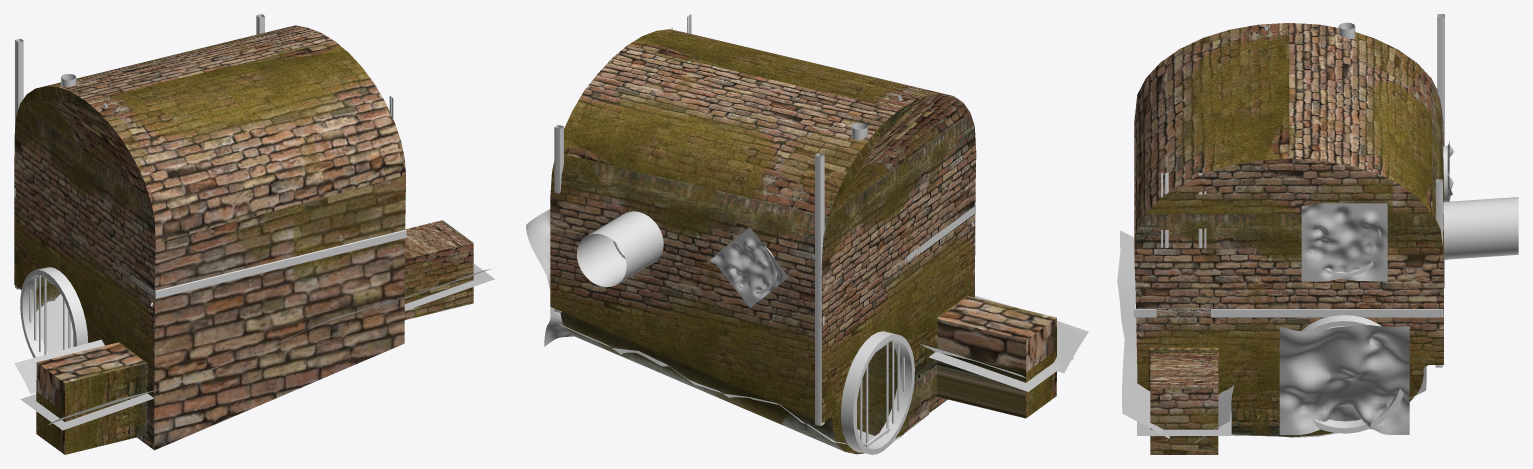
Rendered from slivUV2.fbx.
The picture shows the model from 3 angles, left to right: view 1: azimuth 30°, elevation 25°; view 2: azimuth 150°, elevation 25°; view 3: azimuth 270°, elevation 25°; orthographic projection. The views are drawn at different scales.
Visible parts, largest first — view 1: Cylinder, Canal_Door, Plane.011, Cylinder.008, Cylinder.007, Cylinder.010, Cylinder.009, Cube; view 2: Cylinder, Cylinder.005, Canal_Door, Cylinder.003, Plane.003, Cylinder.002, Cube, Plane.001, Cylinder.008, Cylinder.009, Cylinder.007, Cube.001 (+1 smaller); view 3: Cylinder, Plane.001, Plane.002, Cylinder.003, Cylinder.009, Plane.015, Canal_Door.001, Cube, Cylinder.008, Cylinder.010, Plane.004, Cube.001.
Part boxes in pixels (box(x1,y1,x2,y2)): Cylinder: box(14, 25, 473, 454); Canal_Door: box(20, 267, 88, 357); Plane.011: box(157, 229, 406, 298); Cylinder.008: box(20, 264, 494, 430); Cylinder.007: box(20, 294, 73, 353); Cylinder.010: box(14, 339, 104, 394); Cylinder.009: box(47, 268, 491, 425); Cube: box(15, 38, 23, 289); Cylinder: box(550, 29, 1056, 454); Cylinder.005: box(560, 312, 844, 451); Canal_Door: box(841, 331, 914, 454); Cylinder.003: box(577, 211, 663, 287); Plane.003: box(710, 227, 788, 307); Cylinder.002: box(857, 331, 929, 444); Cube: box(815, 153, 824, 425); Plane.001: box(526, 209, 573, 346); Cylinder.008: box(929, 352, 1074, 391); Cylinder.009: box(975, 295, 1088, 373); Cylinder.007: box(558, 324, 901, 452); Cube.001: box(554, 125, 563, 312); Cylinder: box(1134, 23, 1443, 454); Plane.001: box(1279, 325, 1409, 434); Plane.002: box(1301, 203, 1387, 281); Cylinder.003: box(1443, 197, 1518, 259); Cylinder.009: box(1117, 230, 1169, 438); Plane.015: box(1134, 308, 1443, 317); Canal_Door.001: box(1301, 315, 1403, 433); Cube: box(1437, 14, 1444, 288); Cylinder.008: box(1137, 406, 1231, 435); Cylinder.010: box(1195, 385, 1234, 442); Plane.004: box(1161, 173, 1206, 345); Cube.001: box(1435, 179, 1442, 367).
Size of the model in its own units: 107 by 72.3 by 77.43.
